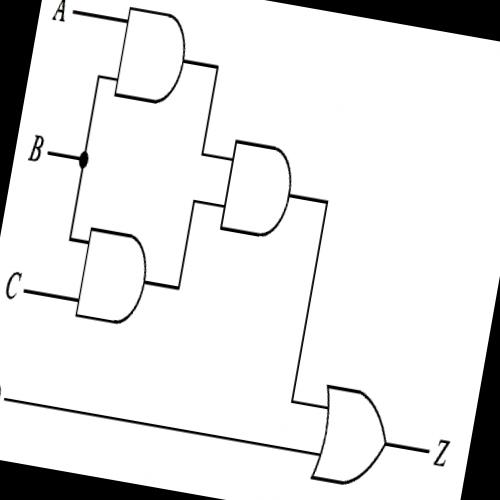and: (212, 130, 303, 248), (68, 218, 157, 332), (107, 0, 196, 112)
or: (302, 378, 398, 498)
